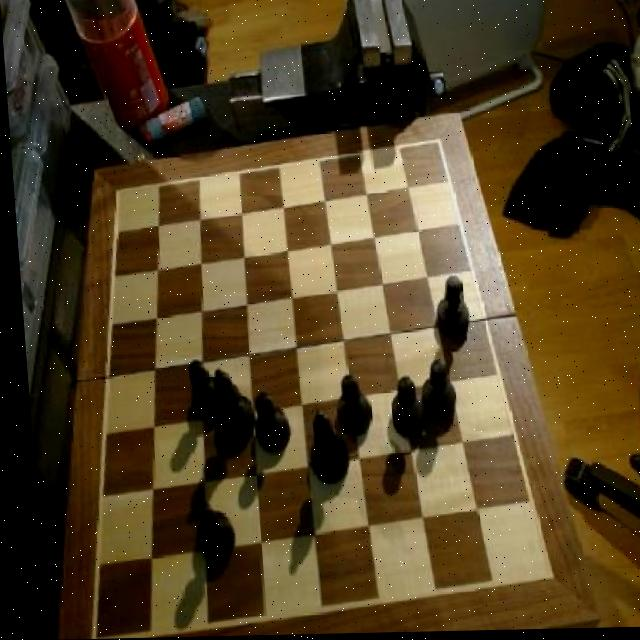bishop: (205, 367, 250, 448), (300, 410, 345, 489)
black-knight: (180, 493, 233, 569), (427, 277, 469, 348), (177, 358, 217, 427), (245, 391, 287, 456), (328, 374, 369, 440), (412, 360, 450, 425), (384, 376, 420, 444)
